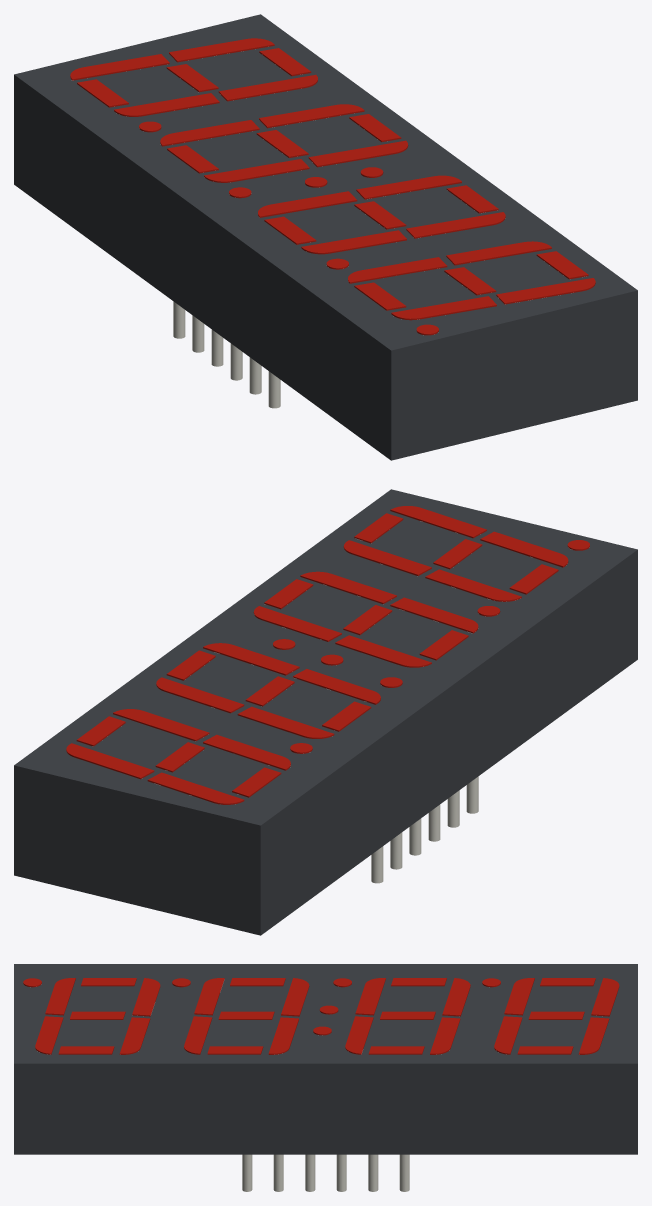
File: kc-ca56-12surkwa.glb
The picture shows the model from 3 angles, top to bottom: view 1: azimuth 30°, elevation 25°; view 2: azimuth 150°, elevation 25°; view 3: azimuth 270°, elevation 25°; orthographic projection. The views are drawn at different scales.
Visible parts, largest first — view 1: 0.08333333333333333_0.08333333333333333_0.08333333333333333_, 0.4166666666666667_0_0_0, 0.6666666666666666_0.6666666666666666_0.5833333333333334_0.8; view 2: 0.08333333333333333_0.08333333333333333_0.08333333333333333_, 0.4166666666666667_0_0_0, 0.6666666666666666_0.6666666666666666_0.5833333333333334_0.8; view 3: 0.08333333333333333_0.08333333333333333_0.08333333333333333_, 0.4166666666666667_0_0_0, 0.6666666666666666_0.6666666666666666_0.5833333333333334_0.8.
Part boxes in pixels (x1,y1,x2,y2): 0.08333333333333333_0.08333333333333333_0.08333333333333333_: [14, 14, 637, 460]; 0.4166666666666667_0_0_0: [70, 38, 595, 335]; 0.6666666666666666_0.6666666666666666_0.5833333333333334_0.8: [173, 301, 280, 408]; 0.08333333333333333_0.08333333333333333_0.08333333333333333_: [14, 489, 637, 935]; 0.4166666666666667_0_0_0: [66, 506, 589, 804]; 0.6666666666666666_0.6666666666666666_0.5833333333333334_0.8: [371, 776, 478, 883]; 0.08333333333333333_0.08333333333333333_0.08333333333333333_: [14, 964, 637, 1154]; 0.4166666666666667_0_0_0: [23, 978, 619, 1054]; 0.6666666666666666_0.6666666666666666_0.5833333333333334_0.8: [242, 1154, 409, 1191].
Bounding box in the file's own units: 1.9 × 1.22 × 5.03.
